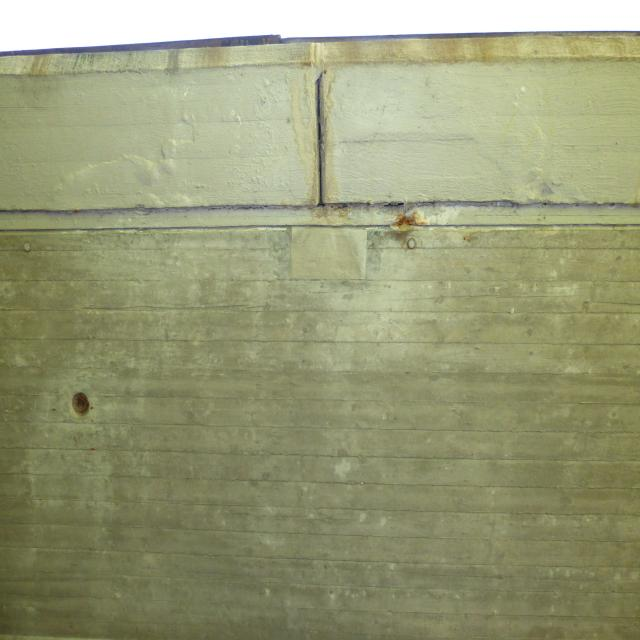corrosion: (49, 388, 102, 456), (392, 209, 432, 257)
